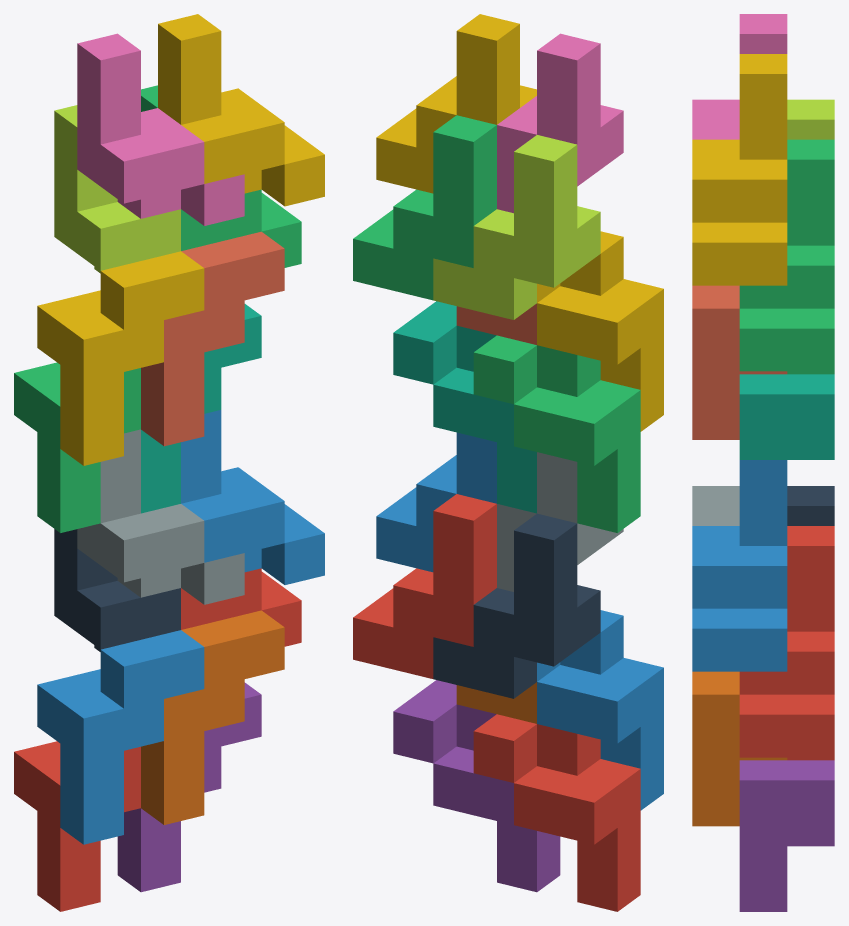
Rendered from tiling.obj.
3 views of the same model, side by side, from view 1: azimuth 30°, elevation 25°; view 2: azimuth 150°, elevation 25°; view 3: azimuth 270°, elevation 25° (orthographic).
Visible parts, largest first — view 1: copy_1_domain_4, copy_1_domain_2, copy_2_domain_4, copy_2_domain_8, copy_1_domain_8, copy_1_domain_6, copy_2_domain_2, copy_2_domain_6, copy_2_domain_3, copy_1_domain_1, copy_1_domain_3, copy_2_domain_1 (+4 smaller); view 2: copy_1_domain_3, copy_1_domain_1, copy_2_domain_1, copy_2_domain_3, copy_2_domain_5, copy_2_domain_7, copy_1_domain_4, copy_1_domain_2, copy_1_domain_5, copy_1_domain_7, copy_2_domain_8, copy_2_domain_4 (+4 smaller); view 3: copy_2_domain_8, copy_2_domain_6, copy_2_domain_7, copy_2_domain_5, copy_1_domain_5, copy_1_domain_7, copy_1_domain_6, copy_1_domain_8, copy_2_domain_4, copy_2_domain_3, copy_2_domain_1, copy_2_domain_2.
Boxes of the visible parts, left/top/right/bottom form: copy_1_domain_4: left=37, top=251, right=204, bottom=465; copy_1_domain_2: left=37, top=630, right=204, bottom=844; copy_2_domain_4: left=77, top=33, right=244, bottom=225; copy_2_domain_8: left=158, top=14, right=324, bottom=206; copy_1_domain_8: left=141, top=231, right=284, bottom=446; copy_1_domain_6: left=141, top=610, right=284, bottom=824; copy_2_domain_2: left=77, top=429, right=244, bottom=604; copy_2_domain_6: left=181, top=410, right=324, bottom=584; copy_2_domain_3: left=54, top=105, right=180, bottom=273; copy_1_domain_1: left=14, top=741, right=140, bottom=911; copy_1_domain_3: left=14, top=362, right=140, bottom=532; copy_2_domain_1: left=54, top=529, right=180, bottom=651; copy_1_domain_3: left=473, top=335, right=640, bottom=532; copy_1_domain_1: left=473, top=714, right=640, bottom=911; copy_2_domain_1: left=433, top=513, right=600, bottom=698; copy_2_domain_3: left=433, top=135, right=600, bottom=319; copy_2_domain_5: left=353, top=494, right=496, bottom=678; copy_2_domain_7: left=353, top=115, right=496, bottom=300; copy_1_domain_4: left=537, top=231, right=663, bottom=431; copy_1_domain_2: left=537, top=610, right=663, bottom=810; copy_1_domain_5: left=393, top=680, right=560, bottom=892; copy_1_domain_7: left=393, top=301, right=536, bottom=513; copy_2_domain_8: left=376, top=14, right=536, bottom=193; copy_2_domain_4: left=497, top=33, right=623, bottom=213; copy_2_domain_8: left=692, top=54, right=787, bottom=285; copy_2_domain_6: left=692, top=460, right=787, bottom=671; copy_2_domain_7: left=739, top=139, right=834, bottom=371; copy_2_domain_5: left=739, top=526, right=834, bottom=757; copy_1_domain_5: left=739, top=760, right=834, bottom=911; copy_1_domain_7: left=739, top=374, right=834, bottom=459; copy_1_domain_6: left=692, top=671, right=787, bottom=826; copy_1_domain_8: left=692, top=285, right=787, bottom=439; copy_2_domain_4: left=692, top=14, right=787, bottom=139; copy_2_domain_3: left=787, top=99, right=834, bottom=139; copy_2_domain_1: left=787, top=486, right=834, bottom=525; copy_2_domain_2: left=692, top=486, right=739, bottom=525.
Bounding box in the file's own units: 6 × 20 × 3.
